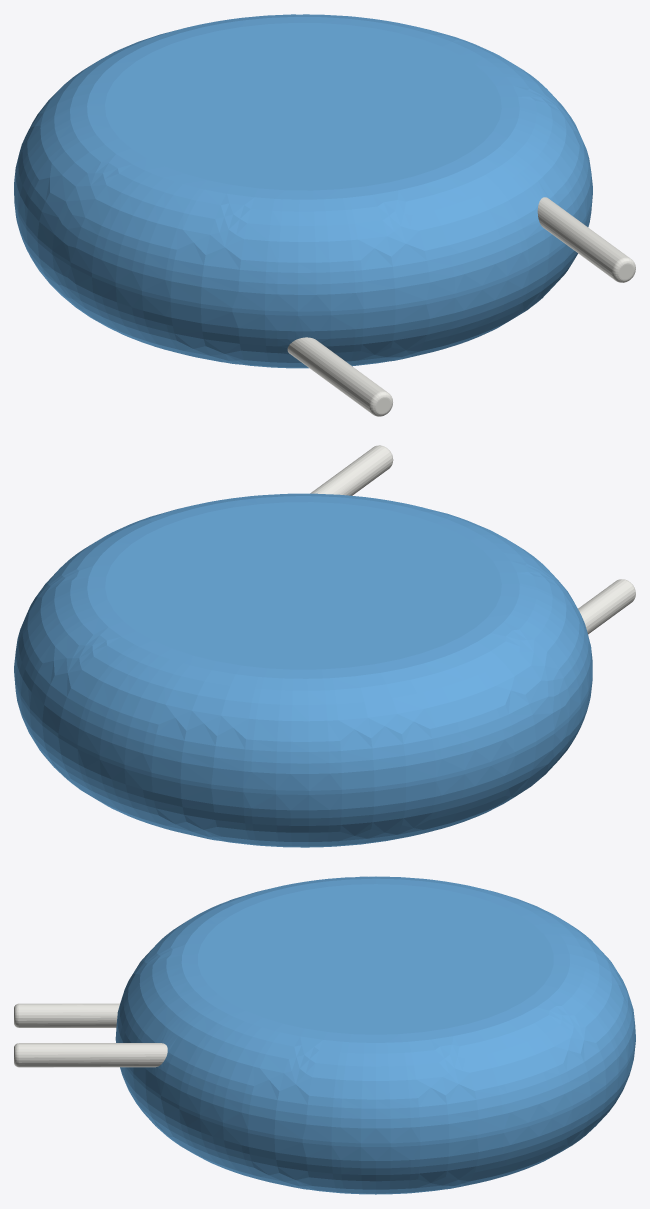
File: RV_Disc_D15.5mm_W5mm_P7.5mm.glb
3 views of the same model, one above another, from view 1: azimuth 30°, elevation 25°; view 2: azimuth 150°, elevation 25°; view 3: azimuth 270°, elevation 25° (orthographic). The views are drawn at different scales.
Visible parts, largest first — view 1: Shape_IndexedFaceSet.001, Shape_IndexedFaceSet.003, Shape_IndexedFaceSet.002, Shape_IndexedFaceSet, Shape_IndexedFaceSet.006, Shape_IndexedFaceSet.004; view 2: Shape_IndexedFaceSet.001, Shape_IndexedFaceSet.003, Shape_IndexedFaceSet.002, Shape_IndexedFaceSet, Shape_IndexedFaceSet.004, Shape_IndexedFaceSet.006; view 3: Shape_IndexedFaceSet.001, Shape_IndexedFaceSet.003, Shape_IndexedFaceSet.002, Shape_IndexedFaceSet.004, Shape_IndexedFaceSet.006, Shape_IndexedFaceSet.
Part boxes in pixels (box(x1,y1,x2,y2)): Shape_IndexedFaceSet.001: box(14, 14, 592, 311); Shape_IndexedFaceSet.003: box(105, 23, 501, 190); Shape_IndexedFaceSet.002: box(14, 198, 592, 368); Shape_IndexedFaceSet: box(14, 190, 592, 315); Shape_IndexedFaceSet.006: box(287, 337, 386, 413); Shape_IndexedFaceSet.004: box(537, 197, 629, 279); Shape_IndexedFaceSet.001: box(14, 493, 592, 790); Shape_IndexedFaceSet.003: box(105, 502, 501, 669); Shape_IndexedFaceSet.002: box(14, 676, 592, 847); Shape_IndexedFaceSet: box(14, 669, 592, 794); Shape_IndexedFaceSet.004: box(310, 445, 392, 495); Shape_IndexedFaceSet.006: box(578, 579, 635, 634); Shape_IndexedFaceSet.001: box(116, 876, 635, 1143); Shape_IndexedFaceSet.003: box(198, 884, 553, 1034); Shape_IndexedFaceSet.002: box(116, 1041, 635, 1194); Shape_IndexedFaceSet.004: box(19, 1043, 167, 1067); Shape_IndexedFaceSet.006: box(19, 1003, 119, 1027); Shape_IndexedFaceSet: box(115, 1037, 635, 1146).
Bounding box in the file's own units: 6.1 × 1.97 × 7.29.
